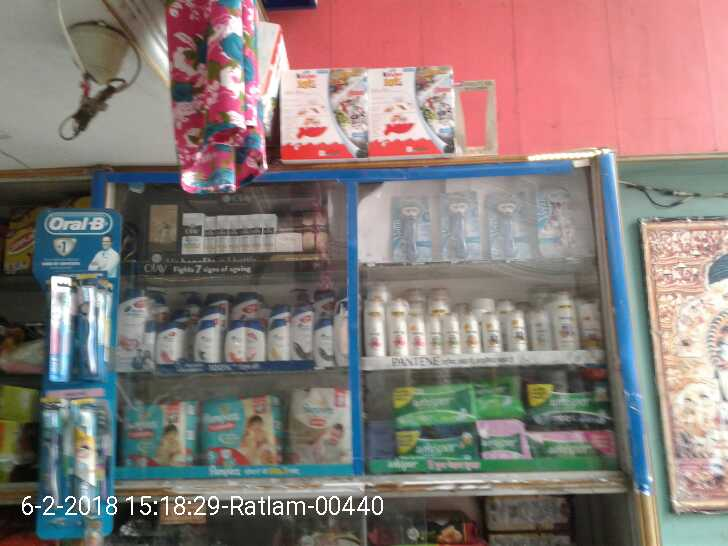venus: (486, 194, 531, 257), (442, 191, 481, 262), (393, 197, 435, 262), (539, 185, 575, 256)
